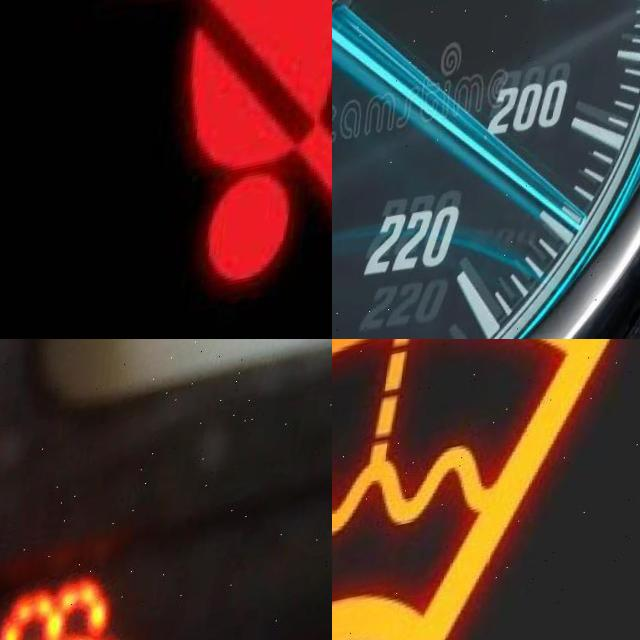Seat Belt: (66, 0, 332, 322)
Washer Fluid: (332, 339, 640, 640), (0, 575, 143, 640)
